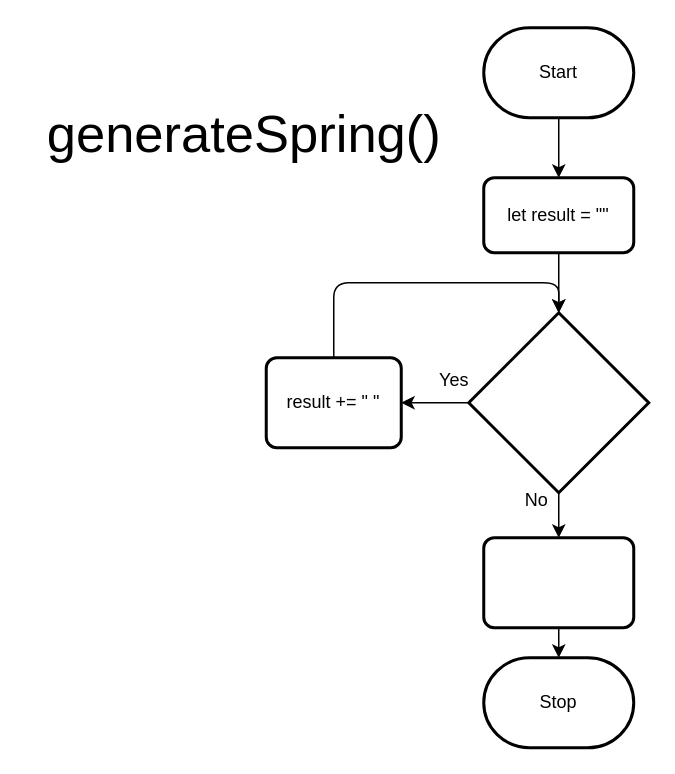
The diagram is 675 pixels wide and 774 high, and some of its shapes have lost their labels. Each missing label, with the centre of its shape:
"for (let repeat = 0; repeat < count; repeat++)" belongs at (558,402).
"return result" belongs at (558,582).
